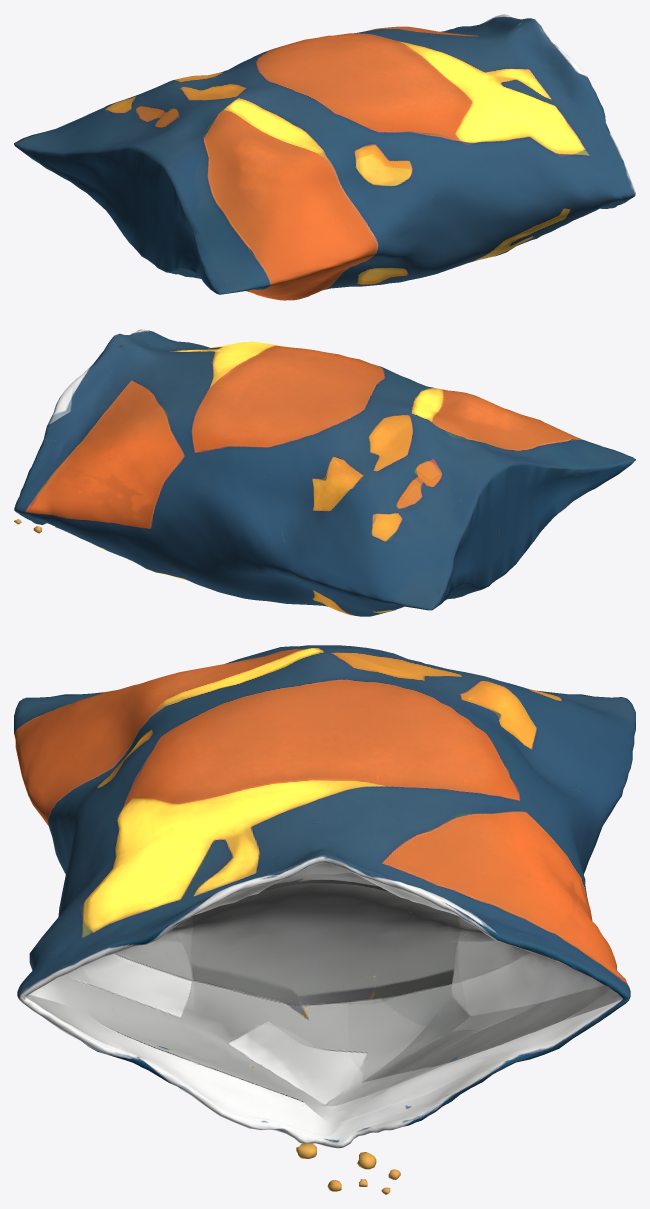
File: trash_small_5.glb
3 renders of one model, top to bottom at view 1: azimuth 30°, elevation 25°; view 2: azimuth 150°, elevation 25°; view 3: azimuth 270°, elevation 25°, orthographic. The views are drawn at different scales.
Bounding box in the file's own units: 1.91 × 0.7123 × 1.4.
Materials: 1 (1 with a texture image).
